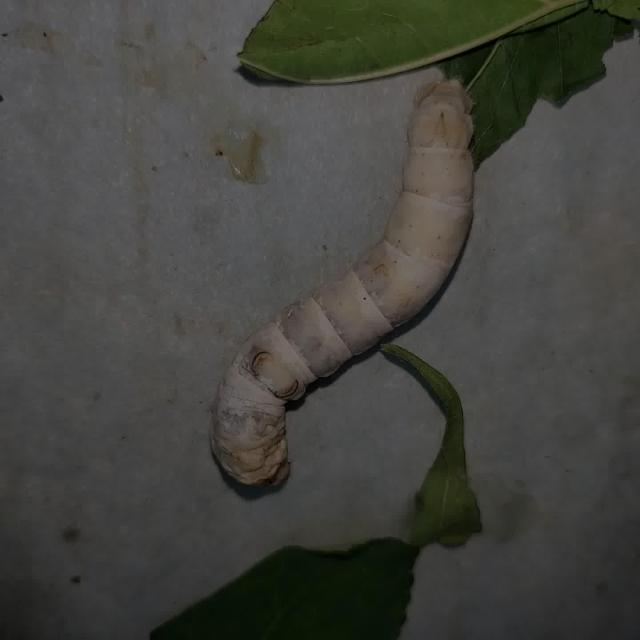Grasserie: (193, 46, 503, 518)
